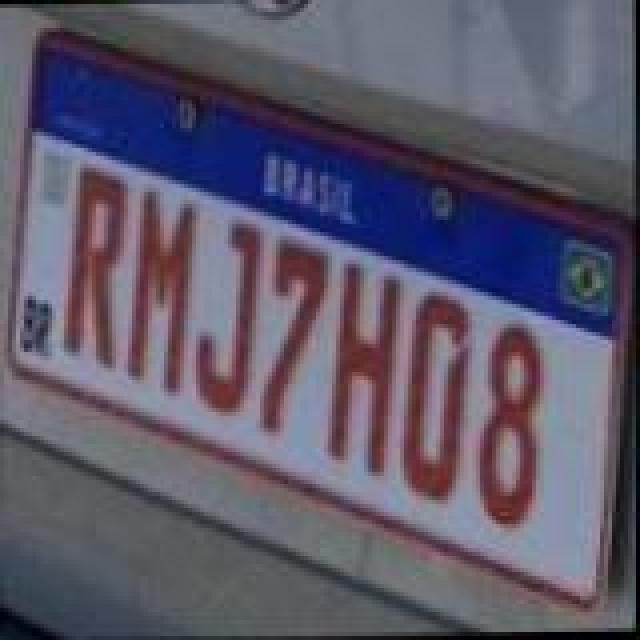7: (256, 236, 332, 432)
8: (476, 324, 548, 528)
D: (400, 288, 480, 504)
H: (324, 262, 408, 478)
J: (192, 218, 268, 414)
M: (124, 188, 200, 400)
R: (58, 172, 130, 372)
